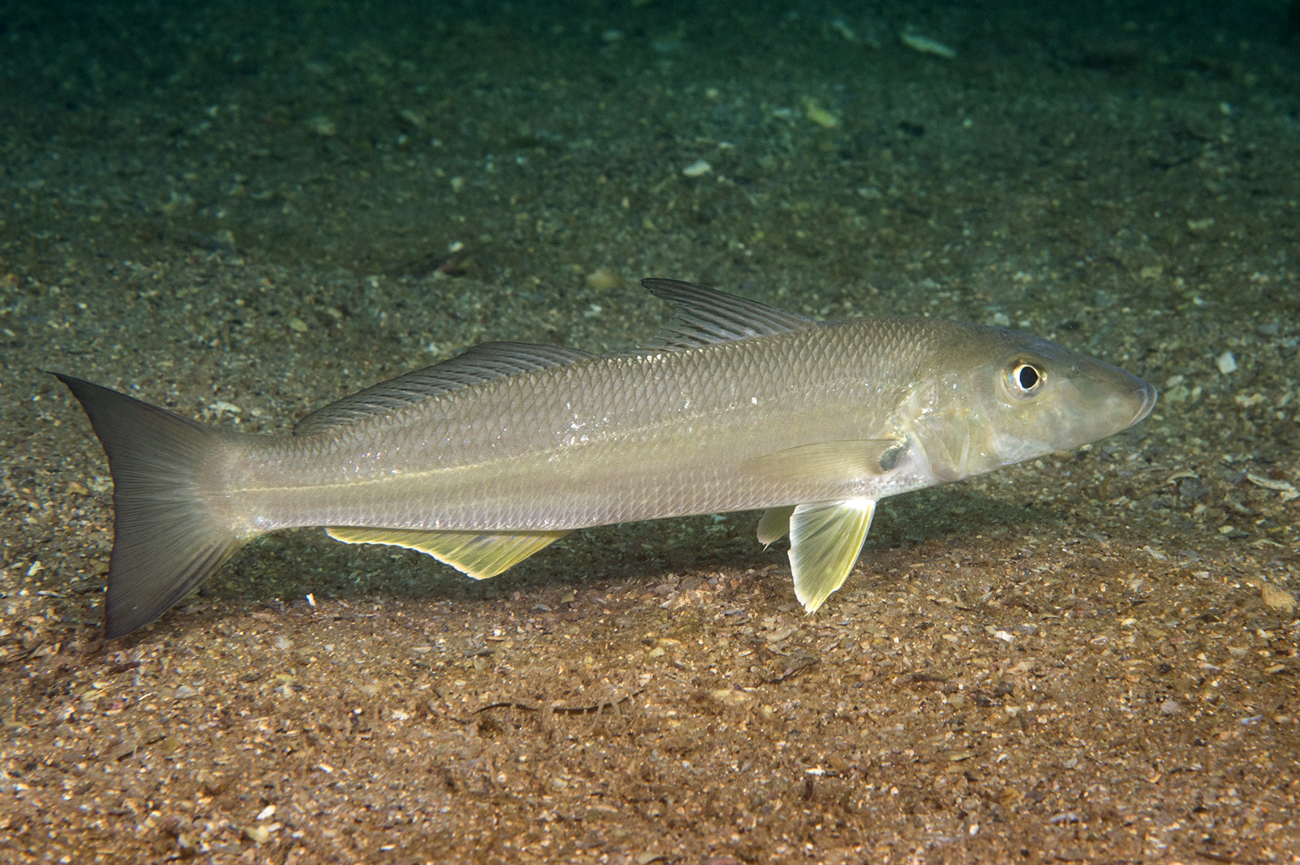kiss: (53, 281, 1160, 634)
